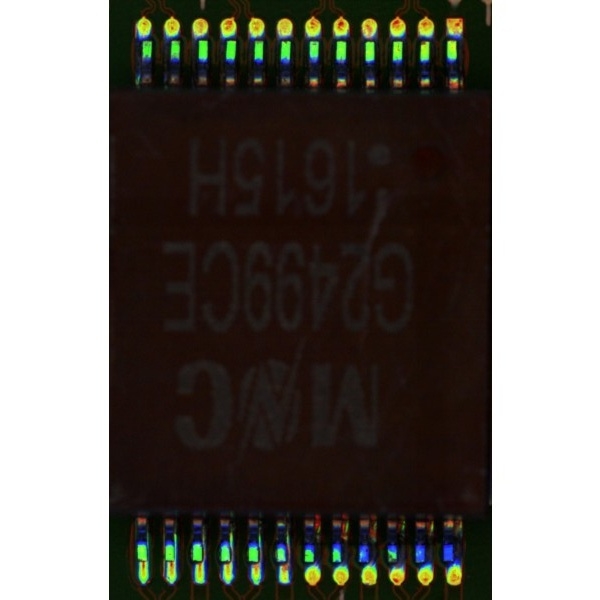Bad_podu: (166, 553, 173, 577), (222, 554, 229, 578), (139, 552, 146, 575), (194, 555, 201, 577), (279, 555, 285, 575), (251, 557, 258, 574)
Bad_qiaojiao: (227, 526, 233, 560), (284, 528, 290, 561), (257, 528, 262, 562), (201, 527, 206, 560), (173, 528, 177, 560)
